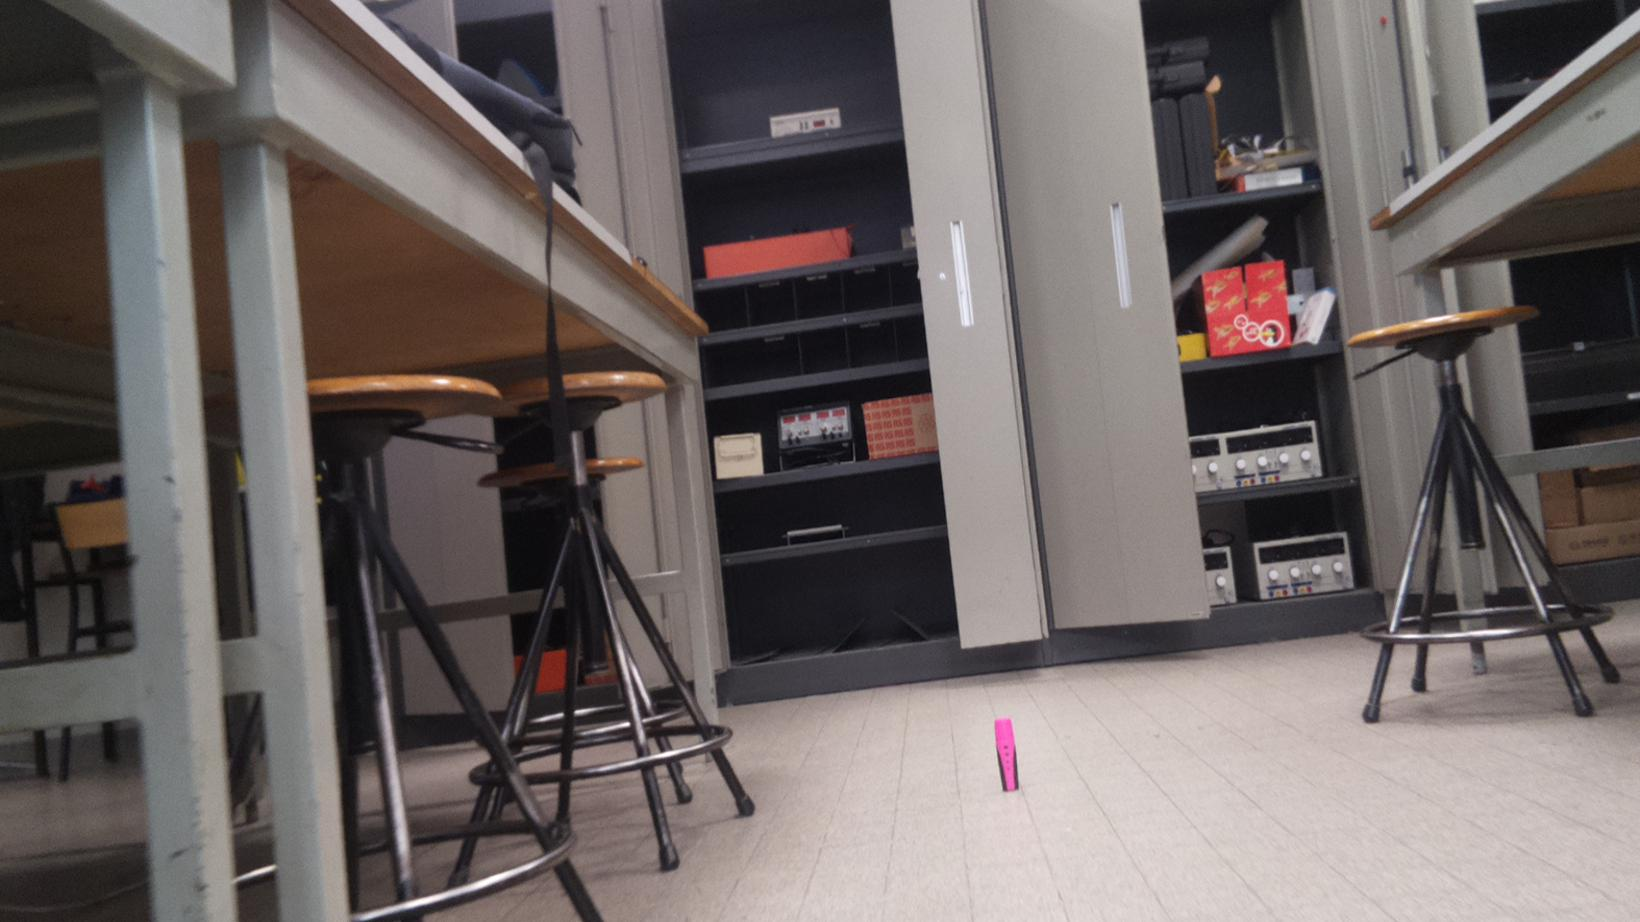small: (993, 717, 1023, 793)
